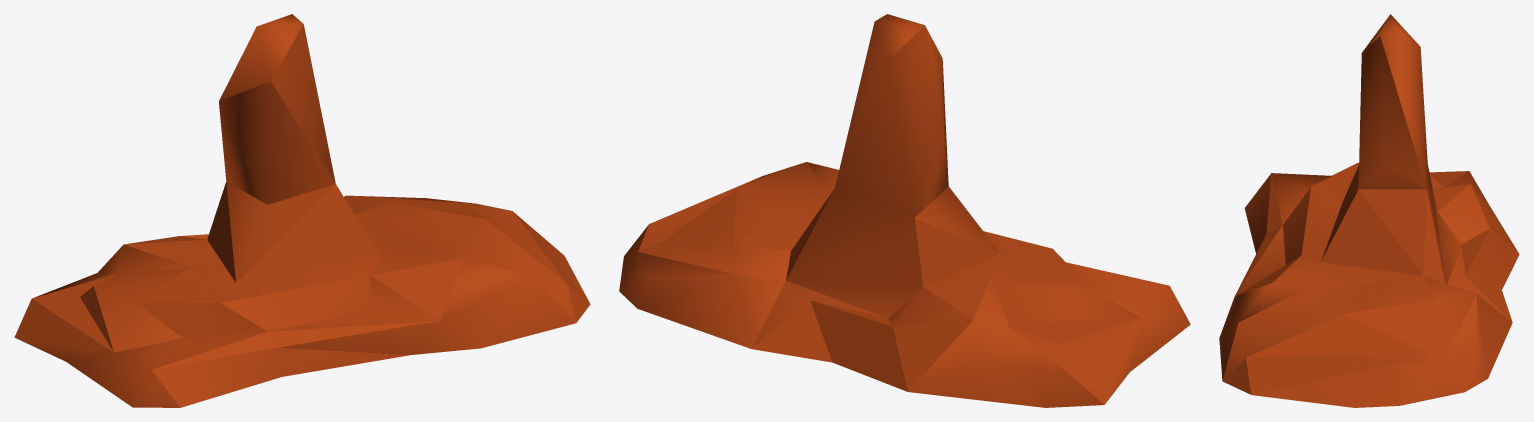
File: Plateau_desert_001.glb
The picture shows the model from 3 angles, left to right: view 1: azimuth 30°, elevation 25°; view 2: azimuth 150°, elevation 25°; view 3: azimuth 270°, elevation 25°; orthographic projection. The views are drawn at different scales.
Visible parts, largest first — view 1: Plateau_desert_001; view 2: Plateau_desert_001; view 3: Plateau_desert_001.
Part boxes in pixels (bbox=[...]): Plateau_desert_001: bbox=[14, 14, 590, 407]; Plateau_desert_001: bbox=[619, 14, 1190, 407]; Plateau_desert_001: bbox=[1219, 14, 1519, 407].
Bounding box in the file's own units: 51.73 × 28.67 × 29.37.
1 material, 1 textured.
